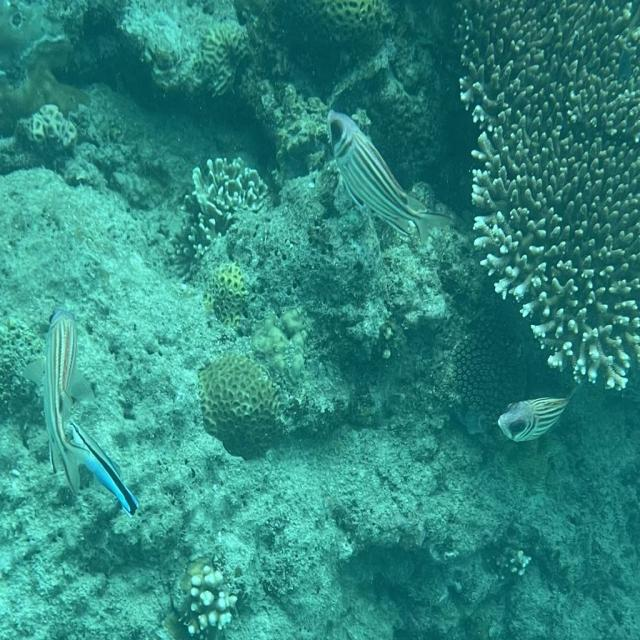Asker Baligi: (317, 97, 467, 272), (26, 285, 104, 489), (476, 364, 601, 459)
